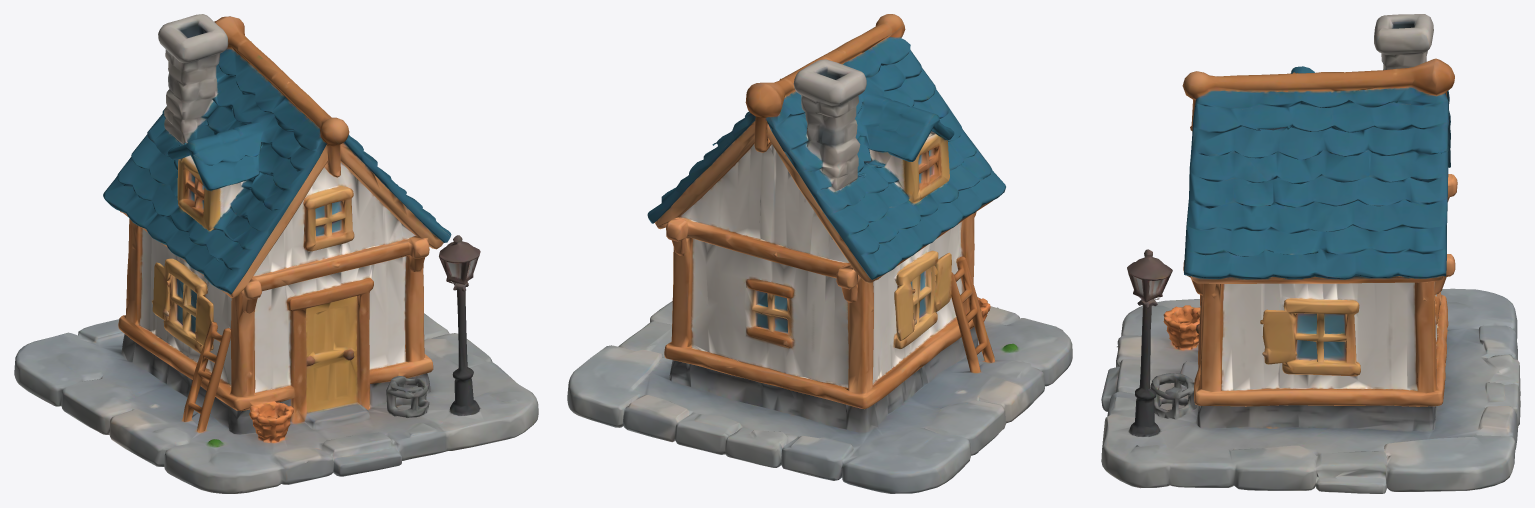
The model's file is wick-house.glb.
The picture shows the model from 3 angles, left to right: view 1: azimuth 30°, elevation 25°; view 2: azimuth 150°, elevation 25°; view 3: azimuth 270°, elevation 25°; orthographic projection. The views are drawn at different scales.
Size of the model in its own units: 5.85 by 5.28 by 5.56.
Materials: 1 (1 with a texture image).
